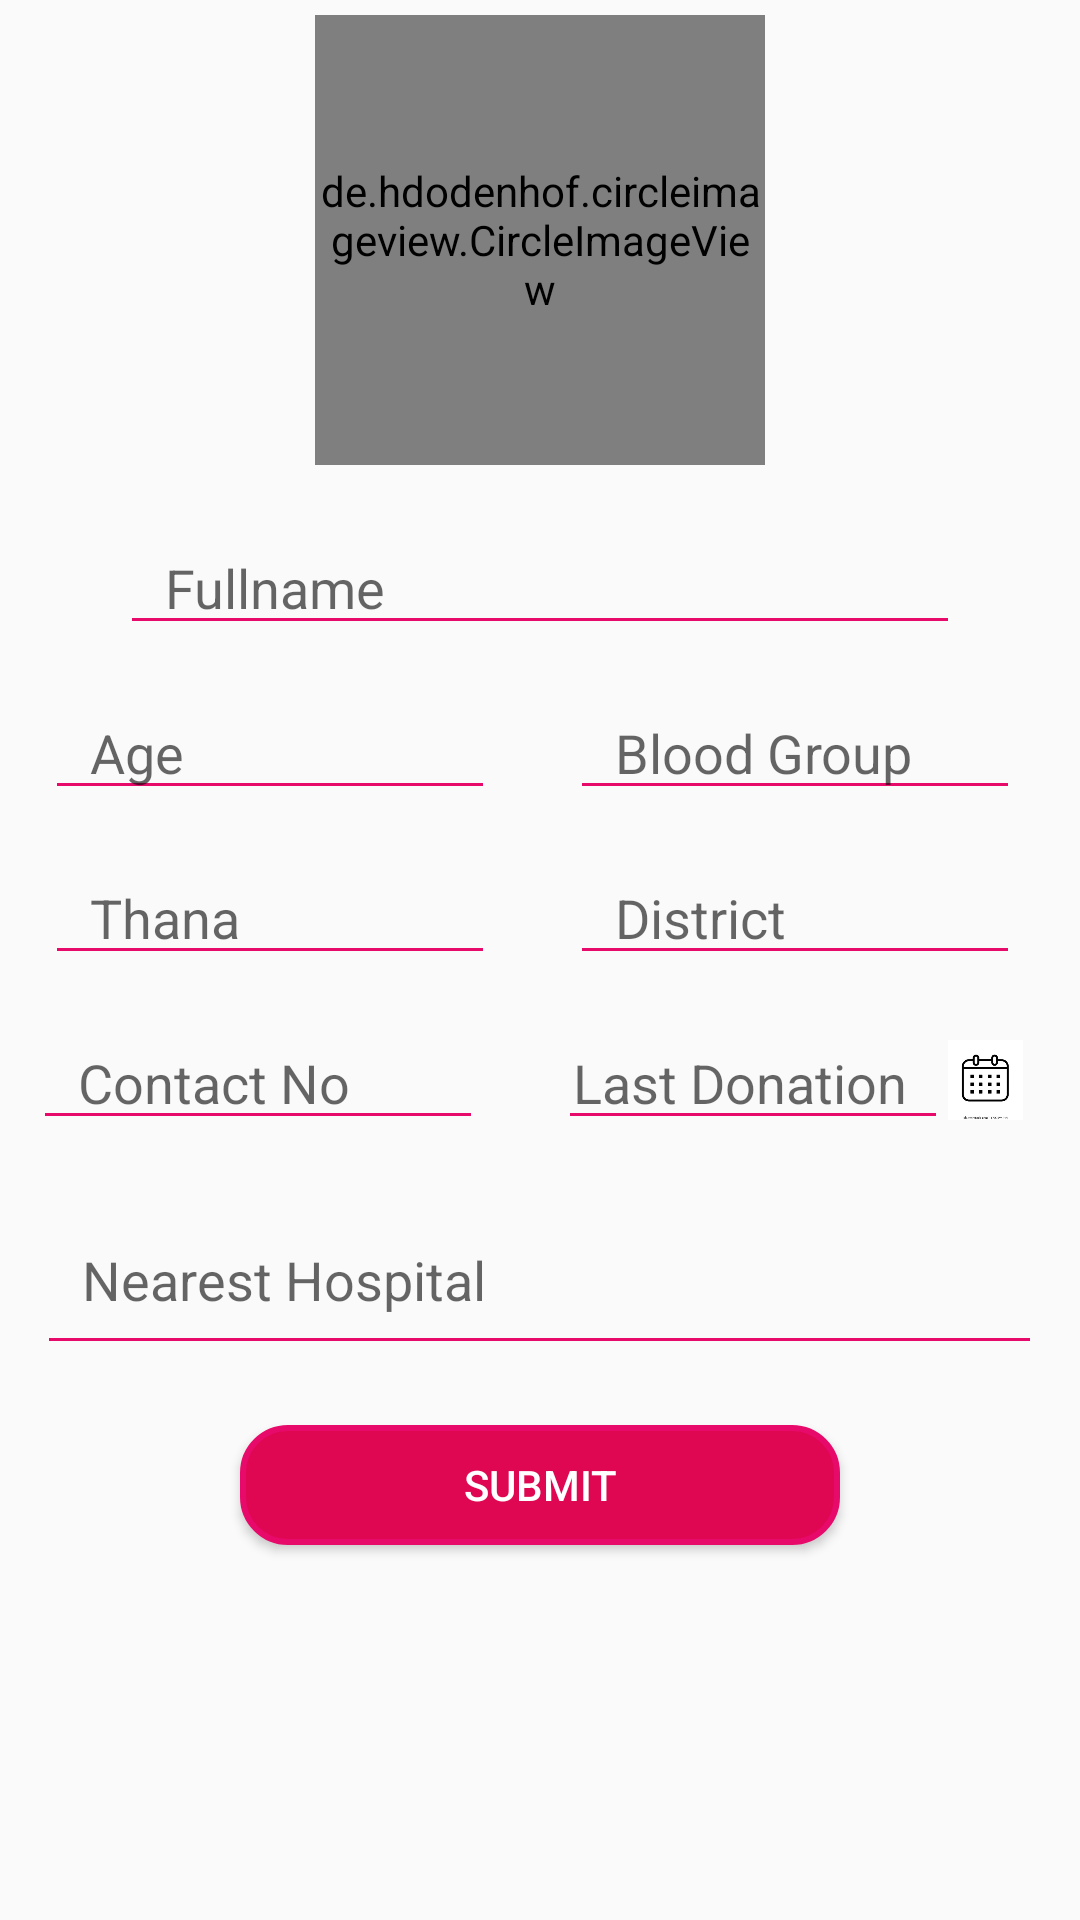

Icons on this 1080 × 1920 Android screen, each with its box as (x1, y1, x2, y2):
calender: (962, 1054, 1009, 1119)
